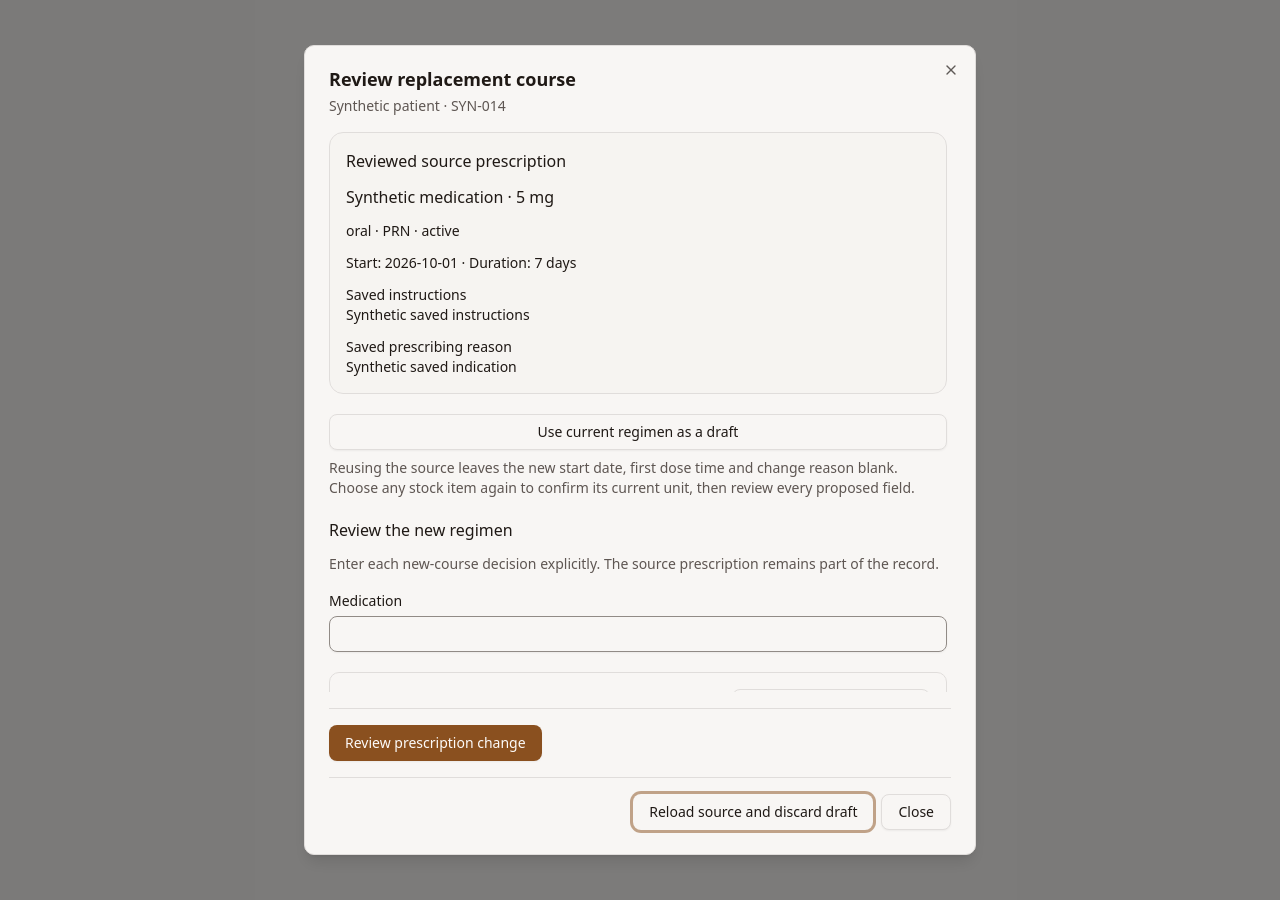
allows an imported whitespace PRN source only through an explicitly configured PRN continuation
Click the button "Use current regimen as a draft". click: (638, 432)
box: [329,414,947,450]
(page scrolled)
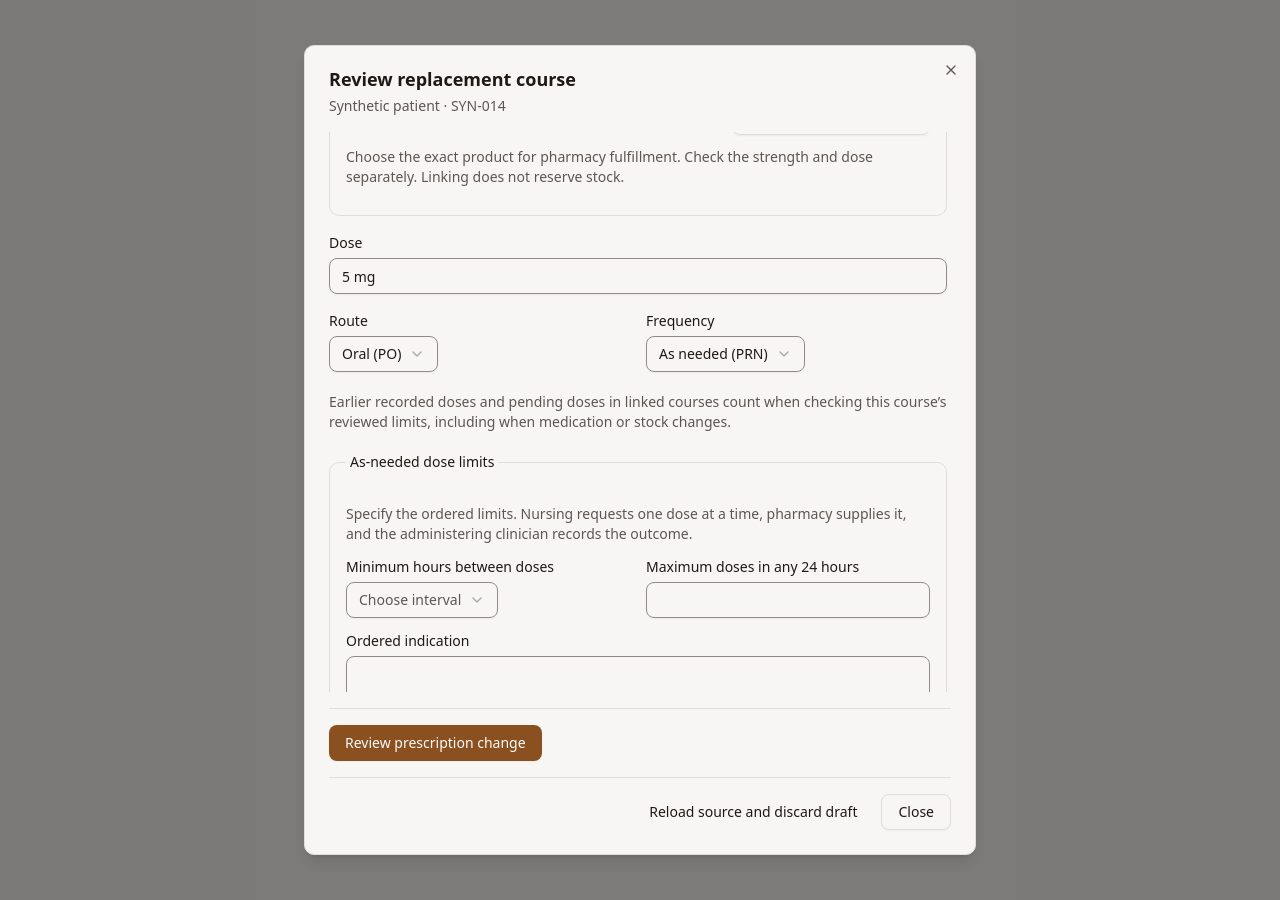
Now the dropdown named "Frequency" reads "As needed (PRN)", box [646,336,805,372]
Now the dropdown named "Minimum hours between doses" is shown, box [346,582,498,618]
Now the text "Earlier recorded doses and pending doses in linked courses count" is shown, box [329,392,946,431]
